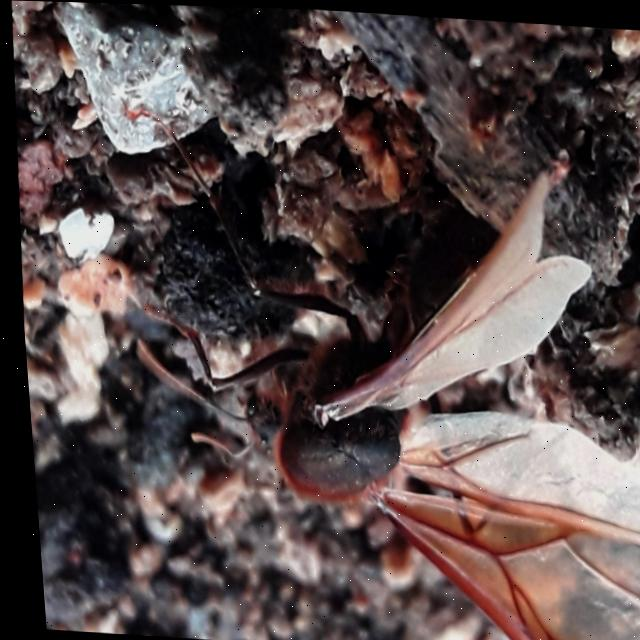Alive-Male-Alate: (98, 94, 640, 640)
